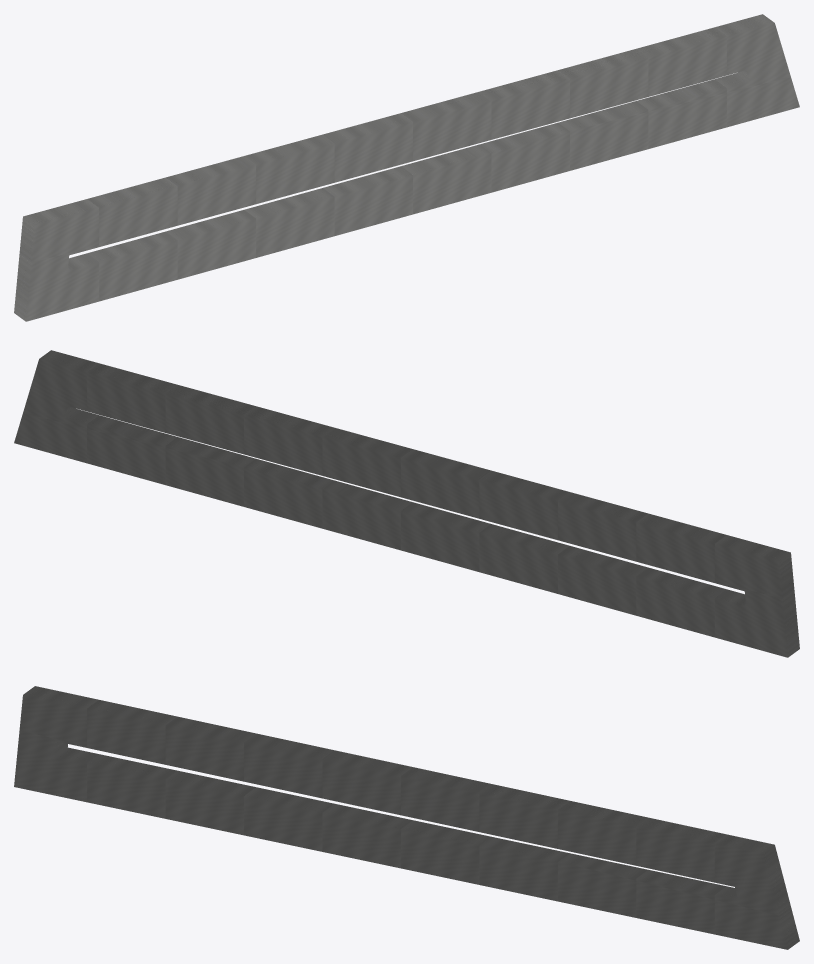
The model's file is curb_side_ring_00_visual.obj.
The picture shows the model from 3 angles, top to bottom: view 1: azimuth 30°, elevation 25°; view 2: azimuth 150°, elevation 25°; view 3: azimuth 330°, elevation 25°; orthographic projection.
Parts seen in each view (by area): view 1: curb_side_ring_00_visual; view 2: curb_side_ring_00_visual; view 3: curb_side_ring_00_visual.
Boxes of the visible parts, x1,y1,x2,y2 form: curb_side_ring_00_visual: [14, 14, 799, 321]; curb_side_ring_00_visual: [14, 350, 799, 657]; curb_side_ring_00_visual: [14, 686, 799, 949].
Size of the model in its own units: 7.4 by 1.06 by 0.2.
Materials: 1 (1 with a texture image).
